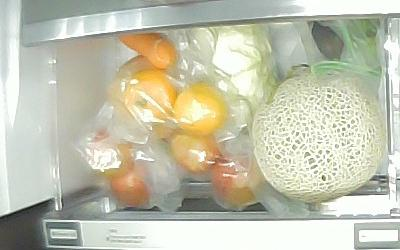cabbage: (192, 25, 283, 105)
carrot: (117, 33, 177, 71)
melon: (254, 68, 385, 202)
prune_vinyl: (211, 154, 263, 210), (170, 127, 227, 175), (83, 128, 137, 177)
tangerine_vinyl: (173, 85, 228, 135), (121, 71, 175, 120)
tomato_vinyl: (107, 156, 159, 208)
